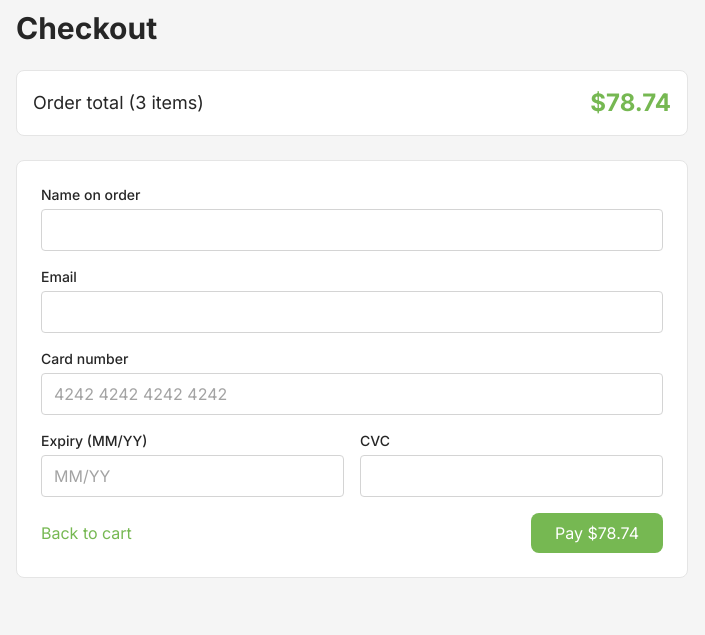
Scenario: CheckoutPage › shows the API error and keeps the form when payment is declined
Type "Alice" into the field labelled "Name on order" at (352, 230), box x1=41 y1=209 x2=663 y2=251
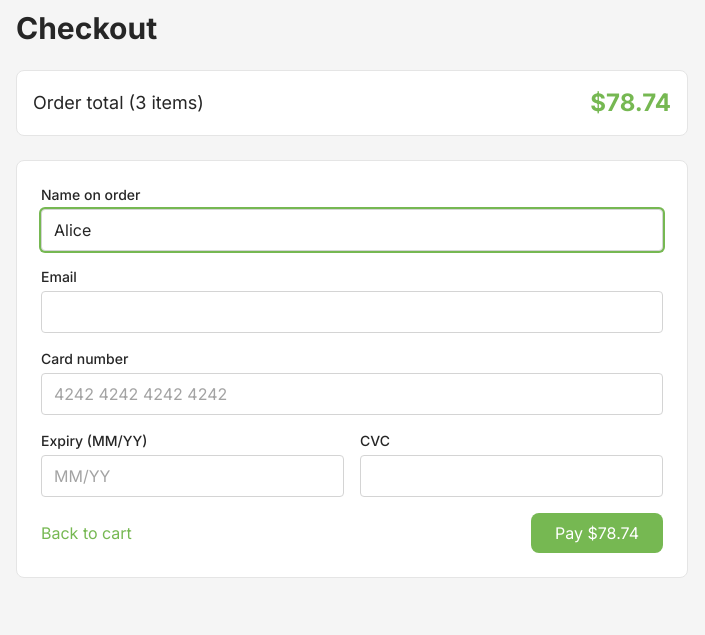
Type "alice@example.com" into the field labelled "Email" at (352, 312), box x1=41 y1=291 x2=663 y2=333
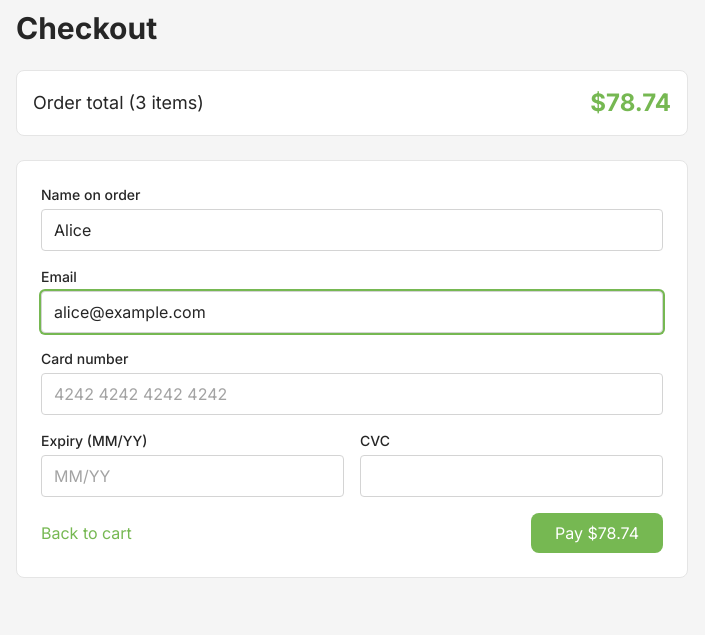
Type "4000000000000002" into the field labelled "Card number" at (352, 394), box x1=41 y1=373 x2=663 y2=415
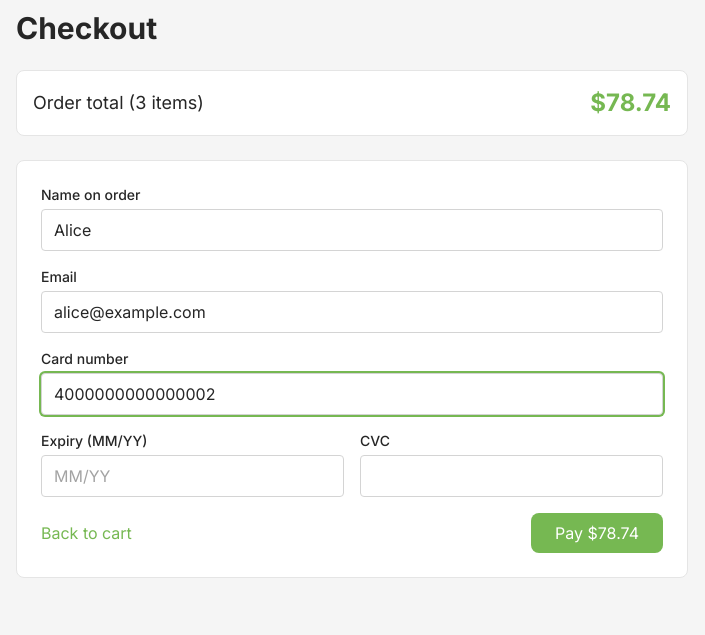
Type "12/40" into the field labelled "Expiry (MM/YY)" at (192, 476), box x1=41 y1=455 x2=344 y2=497
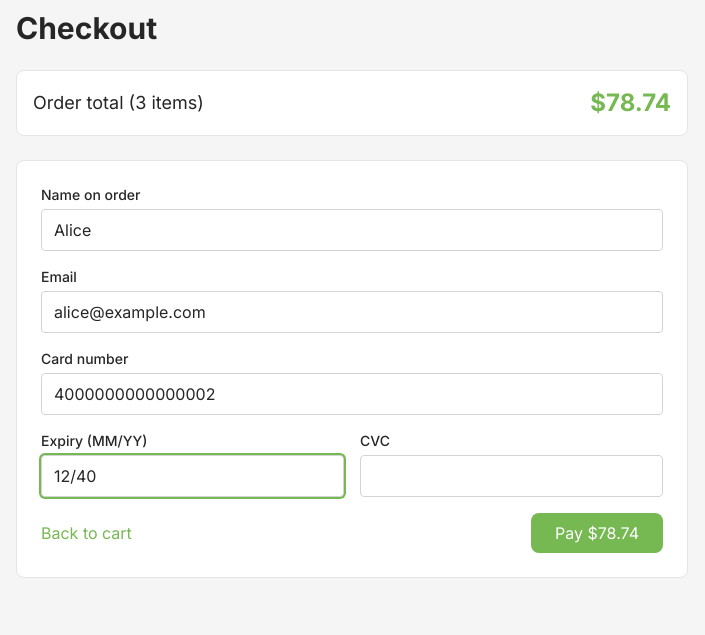
Type "123" into the field labelled "CVC" at (512, 476), box x1=360 y1=455 x2=663 y2=497
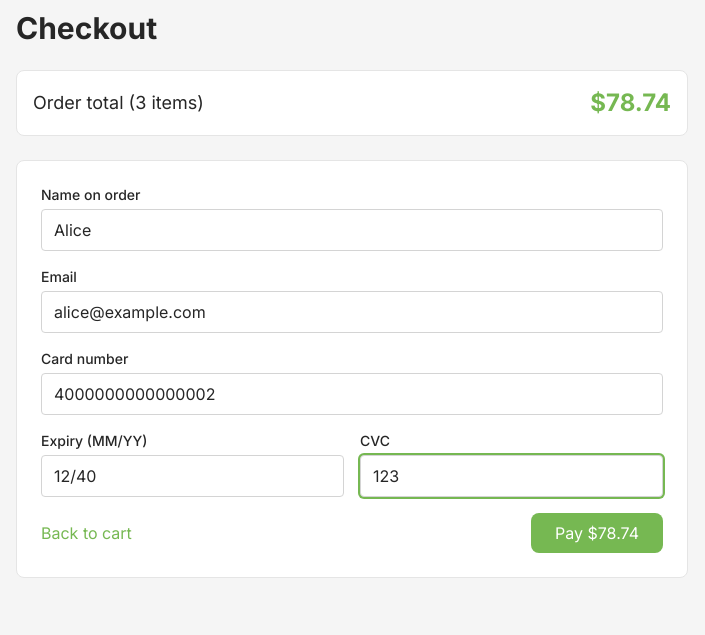
Click the button "Pay $78.74" at (597, 533), box x1=531 y1=513 x2=663 y2=553
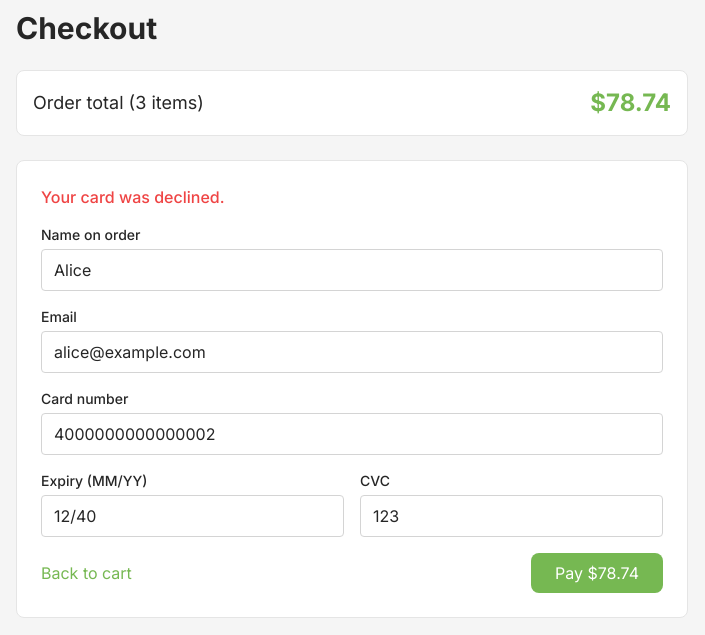
Expected: the button "Pay $78.74" is enabled, x1=531 y1=553 x2=663 y2=593
Now the message reads "Your card was declined.", box x1=41 y1=187 x2=225 y2=207
